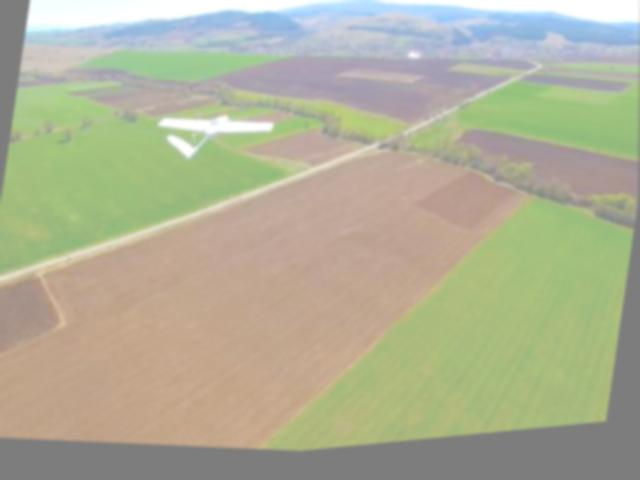uav: (143, 95, 282, 186)
